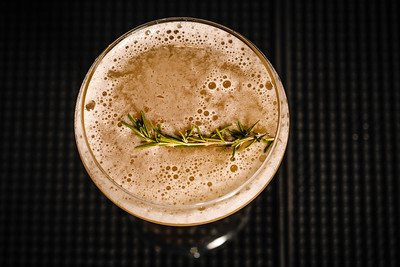sushi: (74, 18, 284, 227)
